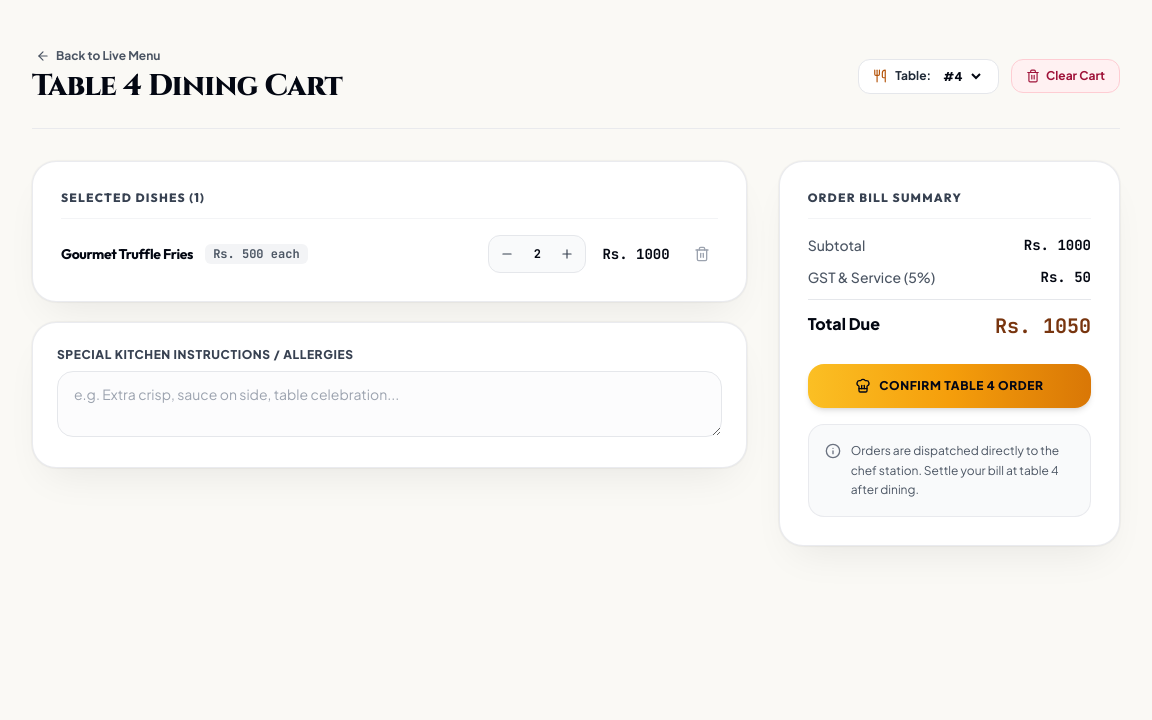
Test case: Cart Checkout & Order Flow Component › renders cart items, calculates totals, and places order successfully
The image size is (1152, 720).
Expected: the heading "Gourmet Truffle Fries" is shown, left=61, top=244, right=193, bottom=264
Expected: the heading "Selected Dishes (1)" is shown, left=61, top=190, right=718, bottom=219
# Submit Order
Click the button "Confirm Table 4 Order": (949, 386) left=808, top=364, right=1091, bottom=408
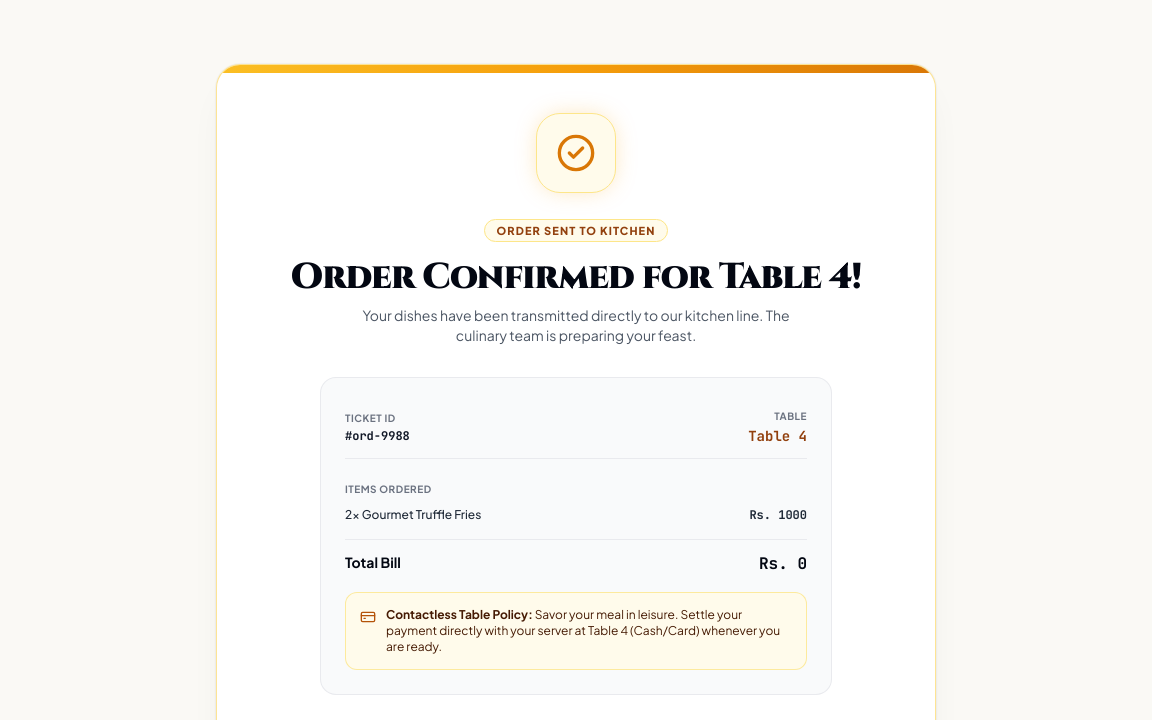
Expected: the heading "Order Confirmed for Table 4!" is shown, left=265, top=257, right=887, bottom=297
Expected: the text "#ord-9988" is shown, left=345, top=428, right=410, bottom=444
